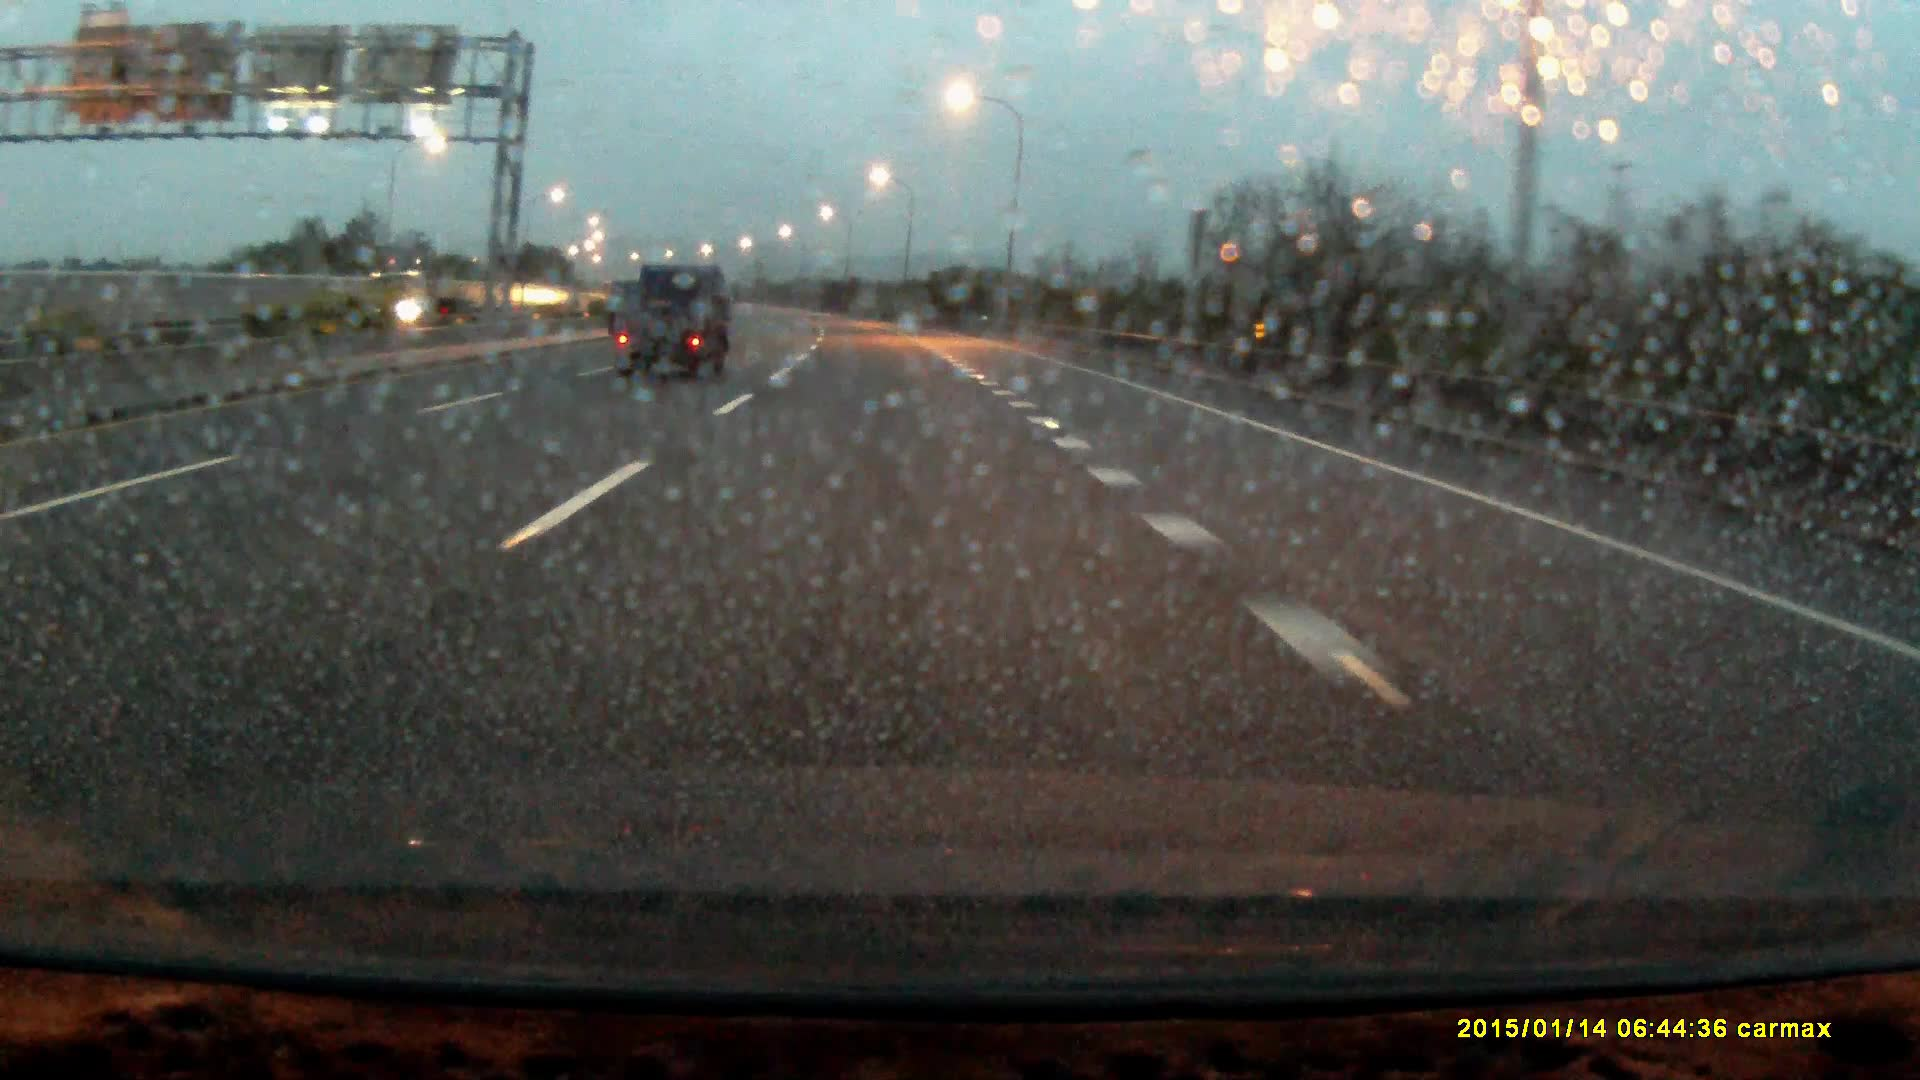vehicle: (615, 260, 733, 382), (364, 264, 477, 319)
